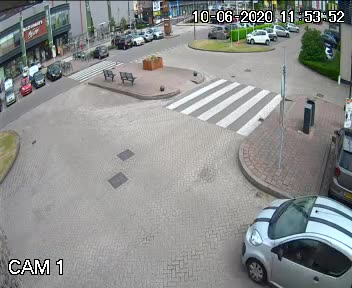car: (233, 184, 352, 288)
